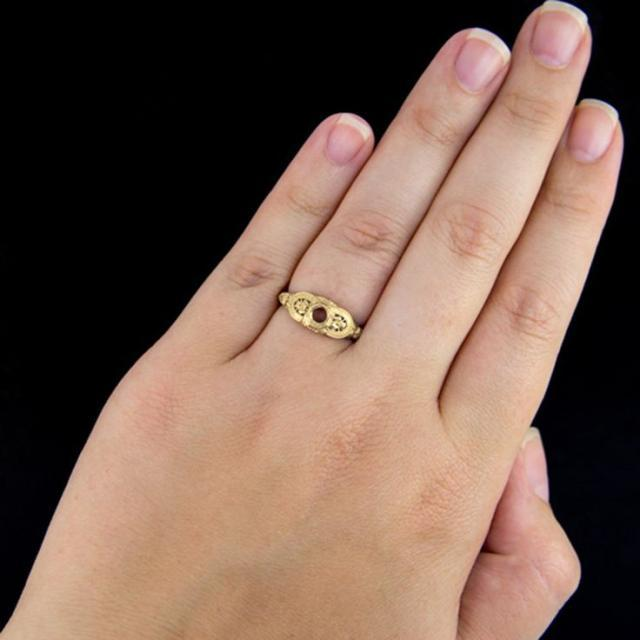Fingernail: (530, 1, 587, 70), (454, 28, 511, 93), (568, 99, 618, 165), (327, 116, 369, 167), (521, 428, 549, 503)
